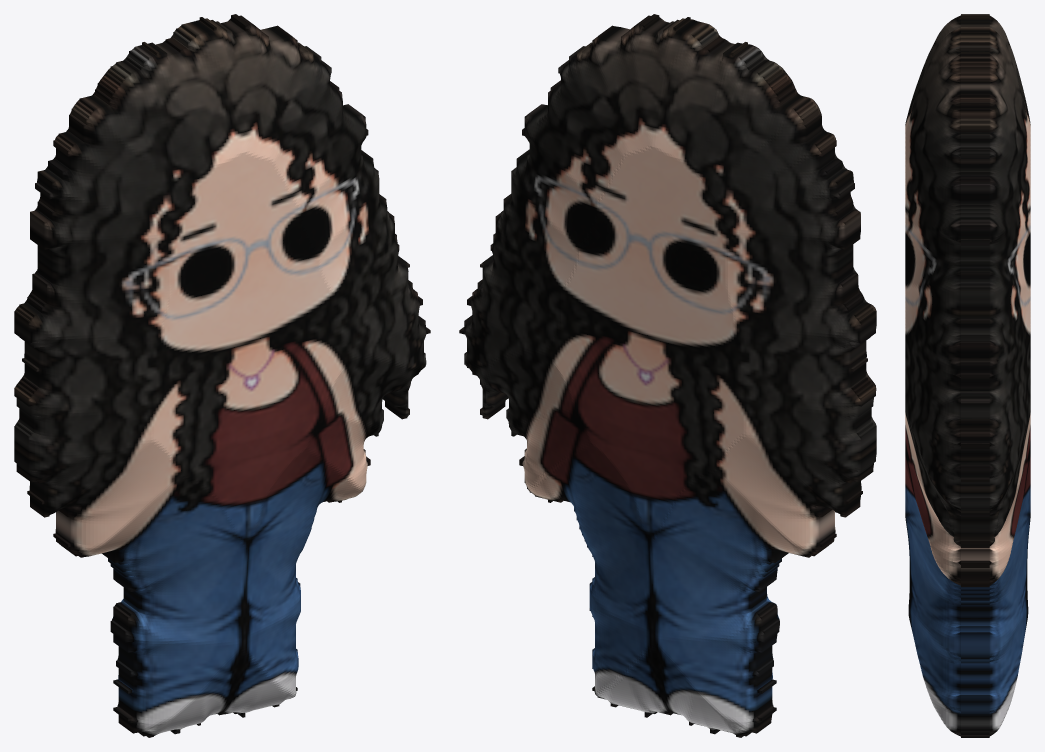
Rendered from Maryane.glb.
3 renders of one model, left to right at view 1: azimuth 30°, elevation 25°; view 2: azimuth 150°, elevation 25°; view 3: azimuth 270°, elevation 25°, orthographic. The views are drawn at different scales.
Visible parts, largest first — view 1: Maryane; view 2: Maryane; view 3: Maryane.
Boxes of the visible parts, <box> form: Maryane: <box>14,14,430,737</box>; Maryane: <box>459,14,876,737</box>; Maryane: <box>905,14,1030,737</box>.
Size of the model in its own units: 1.54 by 2.55 by 0.427.
Materials: 1 (1 with a texture image).
